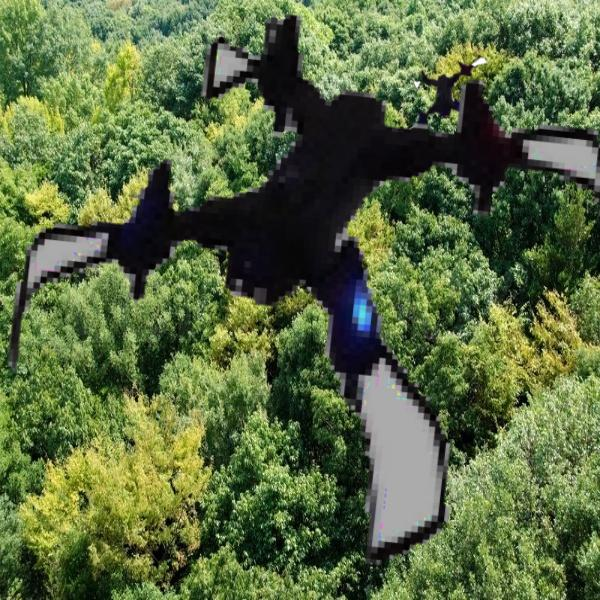drone: (396, 55, 516, 175)
